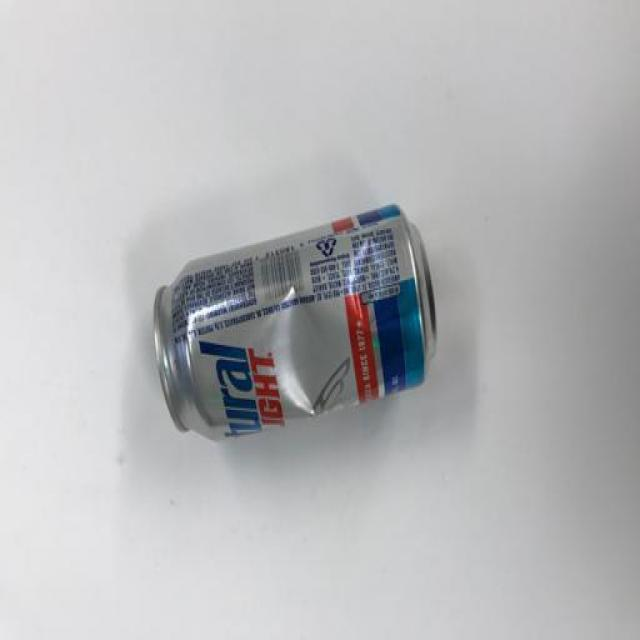metel: (142, 210, 449, 439)
